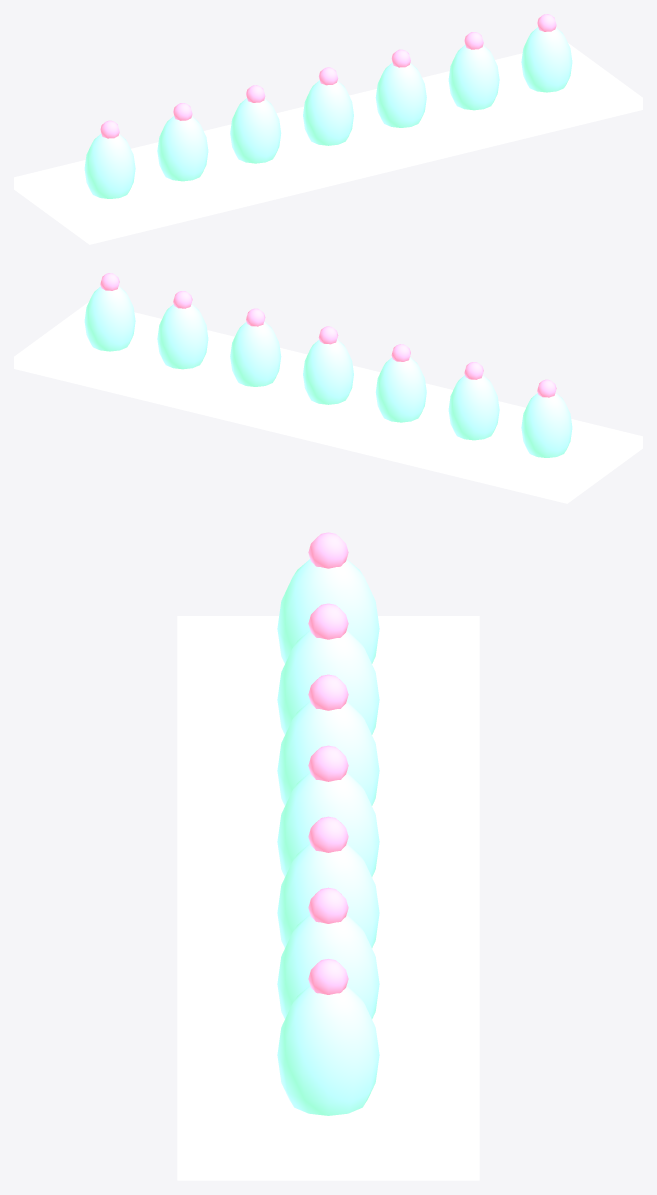
Rendered from spike_trap.glb.
3 renders of one model, top to bottom at view 1: azimuth 30°, elevation 25°; view 2: azimuth 150°, elevation 25°; view 3: azimuth 270°, elevation 25°, orthographic. The views are drawn at different scales.
Visible parts, largest first — view 1: Cube, Sphere.010, Sphere.002, Sphere.004, Sphere.006, Sphere, Sphere.012, Sphere.008; view 2: Cube, Sphere.010, Sphere.002, Sphere.004, Sphere.006, Sphere, Sphere.012, Sphere.008; view 3: Cube, Sphere.012, Sphere.008, Sphere.010, Sphere, Sphere.006, Sphere.002, Sphere.004, Sphere.013, Sphere.011, Sphere.005, Sphere.009 (+3 smaller).
Part boxes in pixels (bbox=[...]): Cube: bbox=[14, 43, 642, 244]; Sphere.010: bbox=[448, 44, 499, 110]; Sphere.002: bbox=[157, 116, 208, 181]; Sphere.004: bbox=[230, 98, 281, 163]; Sphere.006: bbox=[303, 80, 353, 145]; Sphere: bbox=[84, 133, 135, 198]; Sphere.012: bbox=[521, 27, 572, 92]; Sphere.008: bbox=[375, 62, 426, 127]; Cube: bbox=[14, 302, 642, 503]; Sphere.010: bbox=[157, 303, 208, 369]; Sphere.002: bbox=[448, 375, 499, 440]; Sphere.004: bbox=[375, 357, 426, 422]; Sphere.006: bbox=[303, 339, 353, 404]; Sphere: bbox=[521, 392, 572, 457]; Sphere.012: bbox=[84, 286, 135, 351]; Sphere.008: bbox=[230, 321, 281, 386]; Cube: bbox=[177, 616, 479, 1180]; Sphere.012: bbox=[277, 985, 379, 1115]; Sphere.008: bbox=[277, 843, 379, 947]; Sphere.010: bbox=[277, 914, 379, 1018]; Sphere: bbox=[277, 559, 379, 663]; Sphere.006: bbox=[277, 772, 379, 876]; Sphere.002: bbox=[277, 630, 379, 734]; Sphere.004: bbox=[277, 701, 379, 805]; Sphere.013: bbox=[308, 959, 348, 994]; Sphere.011: bbox=[308, 887, 348, 923]; Sphere.005: bbox=[308, 674, 348, 710]; Sphere.009: bbox=[308, 816, 348, 852].
Bounding box in the file's own units: 7.6 × 1.09 × 1.8.
